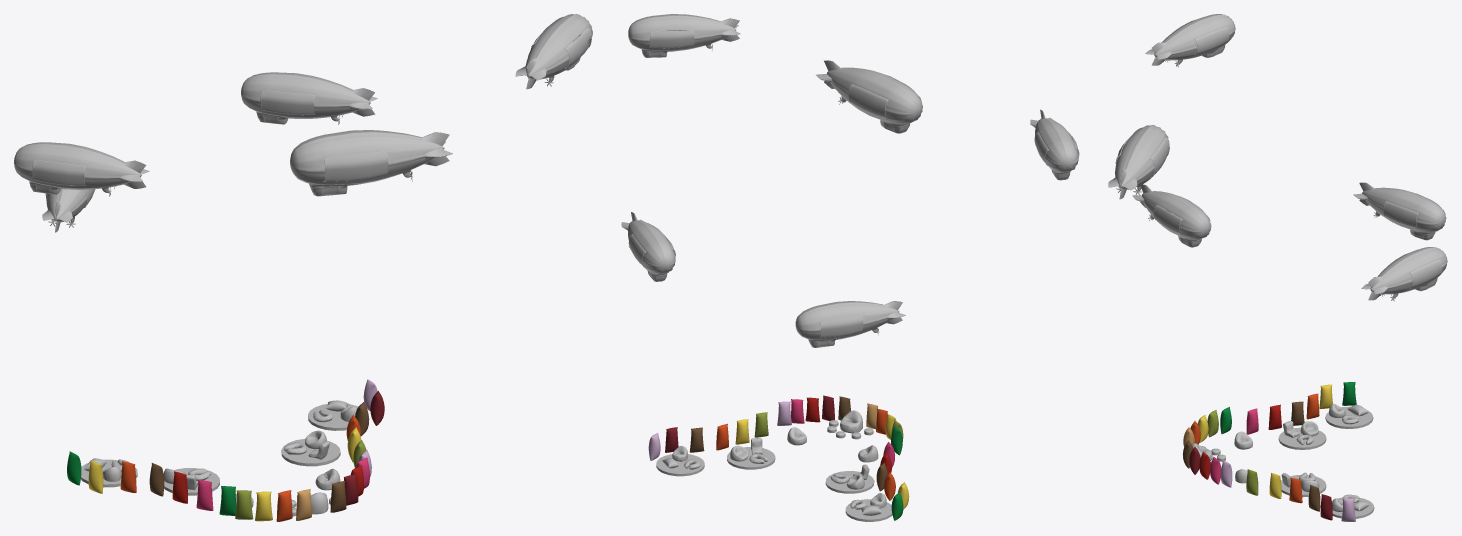
The model's file is YGB2.fbx.
The picture shows the model from 3 angles, left to right: view 1: azimuth 30°, elevation 25°; view 2: azimuth 150°, elevation 25°; view 3: azimuth 270°, elevation 25°; orthographic projection. The views are drawn at different scales.
Parts seen in each view (by area): view 1: YGB_AirBaloons, YGB_BeanBag, YGB_BeanBag03, YGB_BeanBag04, YGB_BeanBag02, YGB_StageBeanBag, YGB_BeanBag01; view 2: YGB_AirBaloons, YGB_BeanBag, YGB_StageBeanBag, YGB_BeanBag03, YGB_BeanBag04, YGB_BeanBag01, YGB_BeanBag02; view 3: YGB_AirBaloons, YGB_BeanBag, YGB_BeanBag02, YGB_BeanBag01, YGB_StageBeanBag, YGB_BeanBag03, YGB_BeanBag04.
Boxes of the visible parts, <box> form: YGB_AirBaloons: <box>14,14,592,232</box>; YGB_BeanBag: <box>67,379,384,521</box>; YGB_BeanBag03: <box>281,430,340,466</box>; YGB_BeanBag04: <box>308,400,357,430</box>; YGB_BeanBag02: <box>163,468,219,495</box>; YGB_StageBeanBag: <box>235,468,340,516</box>; YGB_BeanBag01: <box>81,458,137,487</box>; YGB_AirBaloons: <box>621,14,1079,347</box>; YGB_BeanBag: <box>648,395,909,520</box>; YGB_StageBeanBag: <box>787,410,878,462</box>; YGB_BeanBag03: <box>727,438,775,469</box>; YGB_BeanBag04: <box>656,445,704,476</box>; YGB_BeanBag01: <box>845,493,892,521</box>; YGB_BeanBag02: <box>825,464,874,493</box>; YGB_AirBaloons: <box>1108,14,1447,301</box>; YGB_BeanBag: <box>1182,382,1356,521</box>; YGB_BeanBag02: <box>1278,420,1326,449</box>; YGB_BeanBag01: <box>1325,403,1373,428</box>; YGB_StageBeanBag: <box>1192,431,1252,483</box>; YGB_BeanBag03: <box>1281,472,1326,497</box>; YGB_BeanBag04: <box>1331,494,1374,518</box>.
Size of the model in its own units: 35.5 by 26.86 by 23.21.
Materials: 7 (1 with a texture image).
